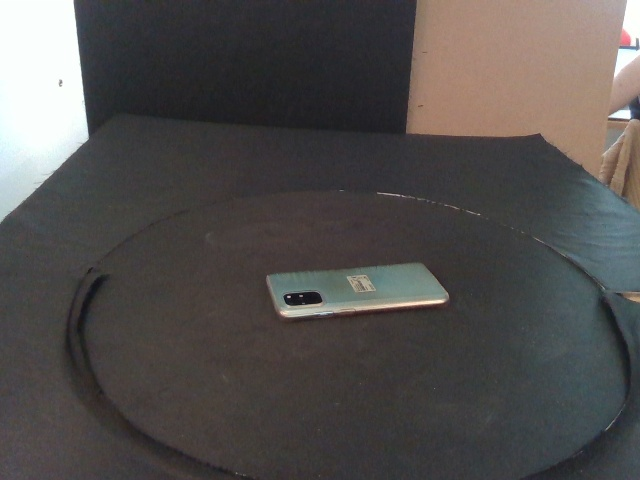phone: (265, 261, 449, 322)
